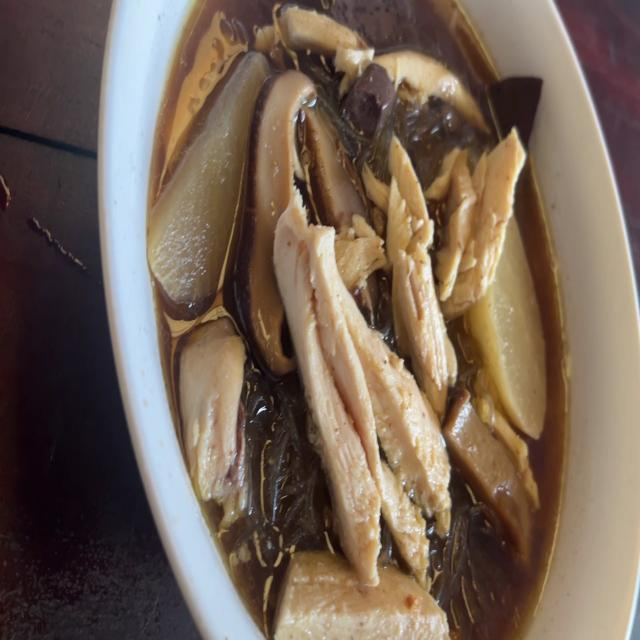boiled_chicken_blood_jelly: (487, 67, 540, 145), (319, 0, 411, 42), (353, 70, 389, 143)
chicken_shredded: (278, 224, 438, 552), (386, 122, 455, 409), (277, 551, 441, 640), (441, 133, 520, 299), (184, 332, 239, 489), (384, 47, 484, 119), (284, 9, 369, 66)
daikon_radish: (145, 49, 257, 304), (486, 256, 545, 426)
noodle: (150, 0, 563, 640)
